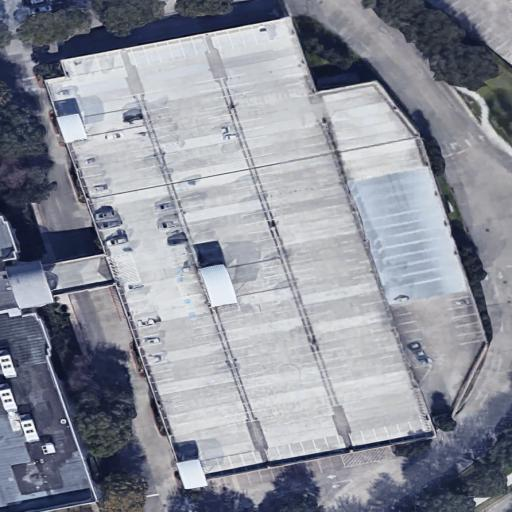Flat Roof: (45, 17, 493, 488)
